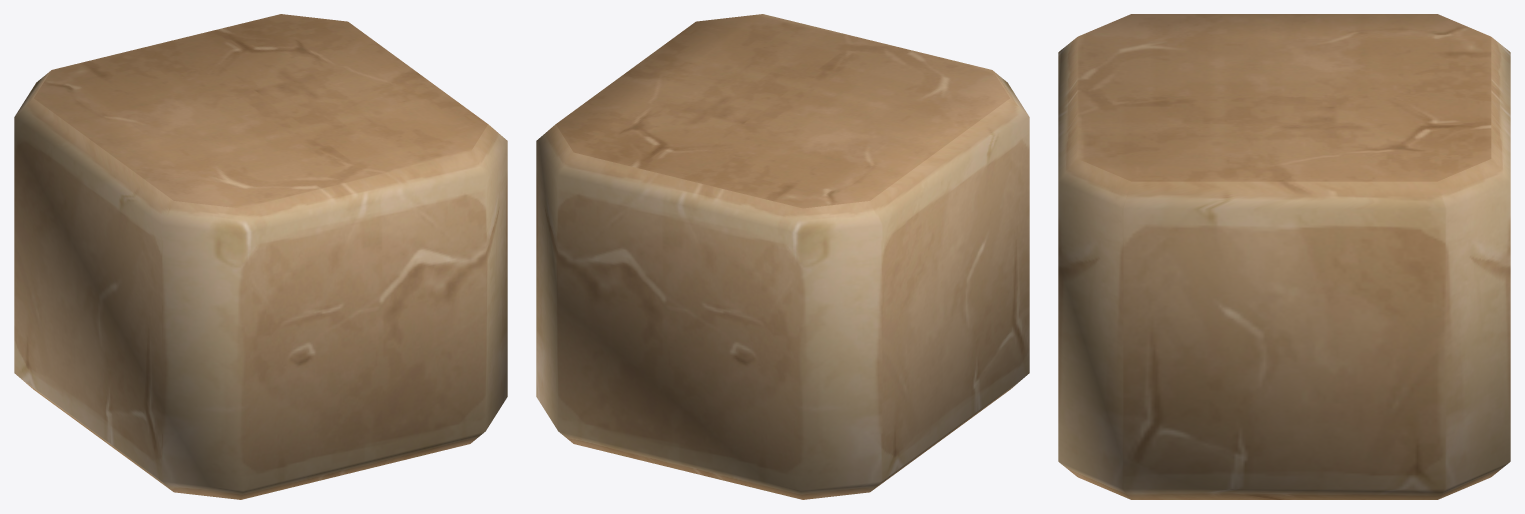
The model's file is DE_House_Mod_Part_57.fbx.
The picture shows the model from 3 angles, left to right: view 1: azimuth 30°, elevation 25°; view 2: azimuth 150°, elevation 25°; view 3: azimuth 270°, elevation 25°; orthographic projection. The views are drawn at different scales.
Parts seen in each view (by area): view 1: DE_House_Mod_Part_57; view 2: DE_House_Mod_Part_57; view 3: DE_House_Mod_Part_57.
Part boxes in pixels (x1,y1,x2,y2): DE_House_Mod_Part_57: [14, 14, 507, 499]; DE_House_Mod_Part_57: [536, 14, 1029, 499]; DE_House_Mod_Part_57: [1058, 14, 1510, 499].
Bounding box in the file's own units: 0.6254 × 0.5043 × 0.6497.
